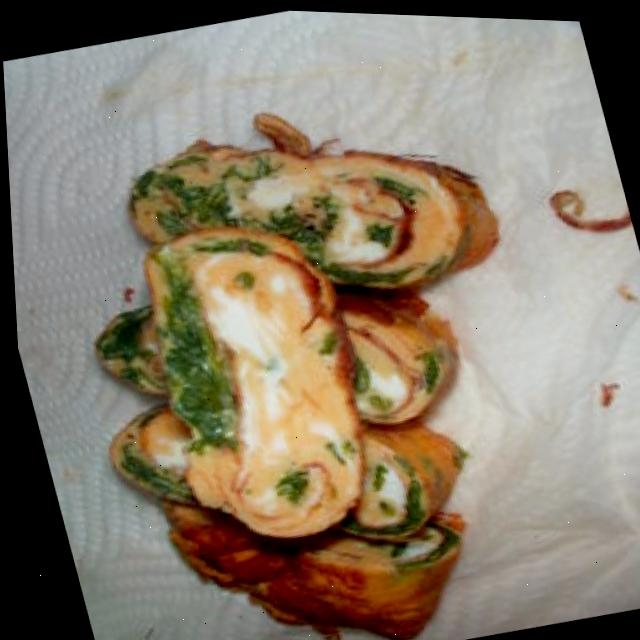鸡蛋料理: (77, 108, 640, 640)
